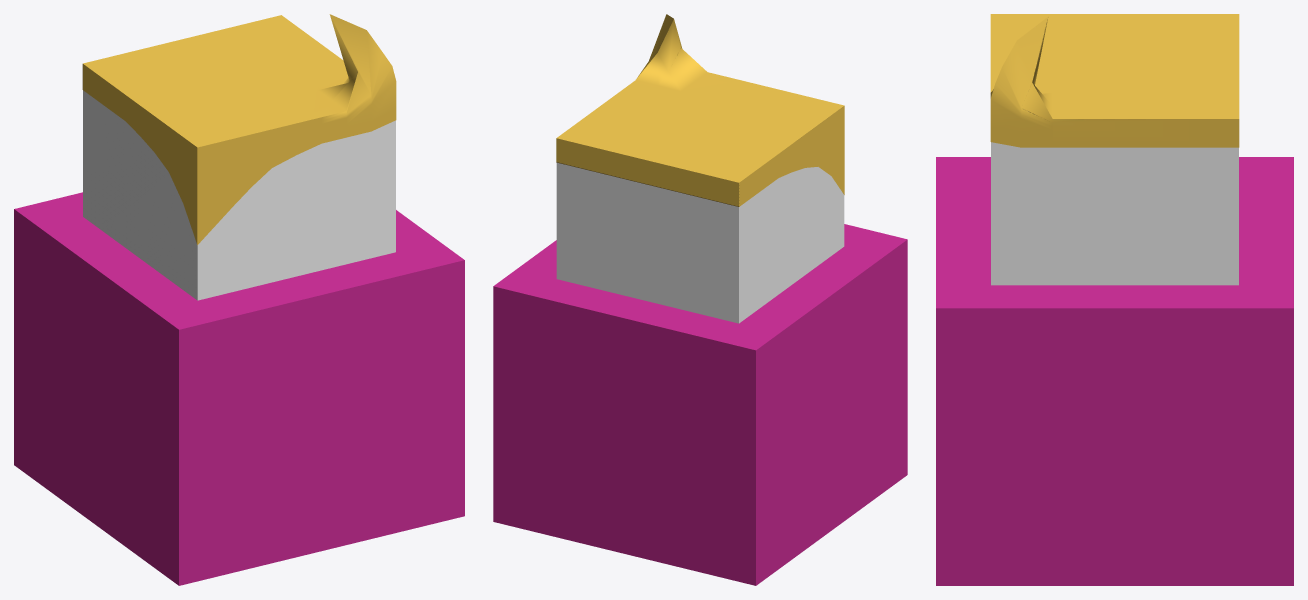
Rendered from glamorous mathew.fbx.
3 views of the same model, side by side, from view 1: azimuth 30°, elevation 25°; view 2: azimuth 150°, elevation 25°; view 3: azimuth 270°, elevation 25° (orthographic). The views are drawn at different scales.
Parts seen in each view (by area): view 1: polySurface4; view 2: polySurface4; view 3: polySurface4.
Part boxes in pixels (bbox=[...]): polySurface4: bbox=[14, 14, 464, 585]; polySurface4: bbox=[493, 14, 907, 585]; polySurface4: bbox=[936, 14, 1293, 585].
Size of the model in its own units: 3.7 by 5.99 by 3.7.
